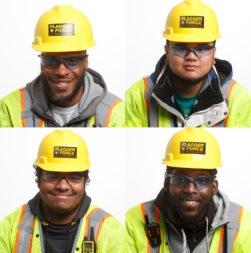helmet: (29, 5, 97, 57), (161, 0, 225, 47), (160, 129, 226, 173), (33, 130, 92, 176)
wear: (125, 80, 251, 128), (124, 207, 251, 253), (0, 208, 124, 252), (0, 92, 125, 128)
